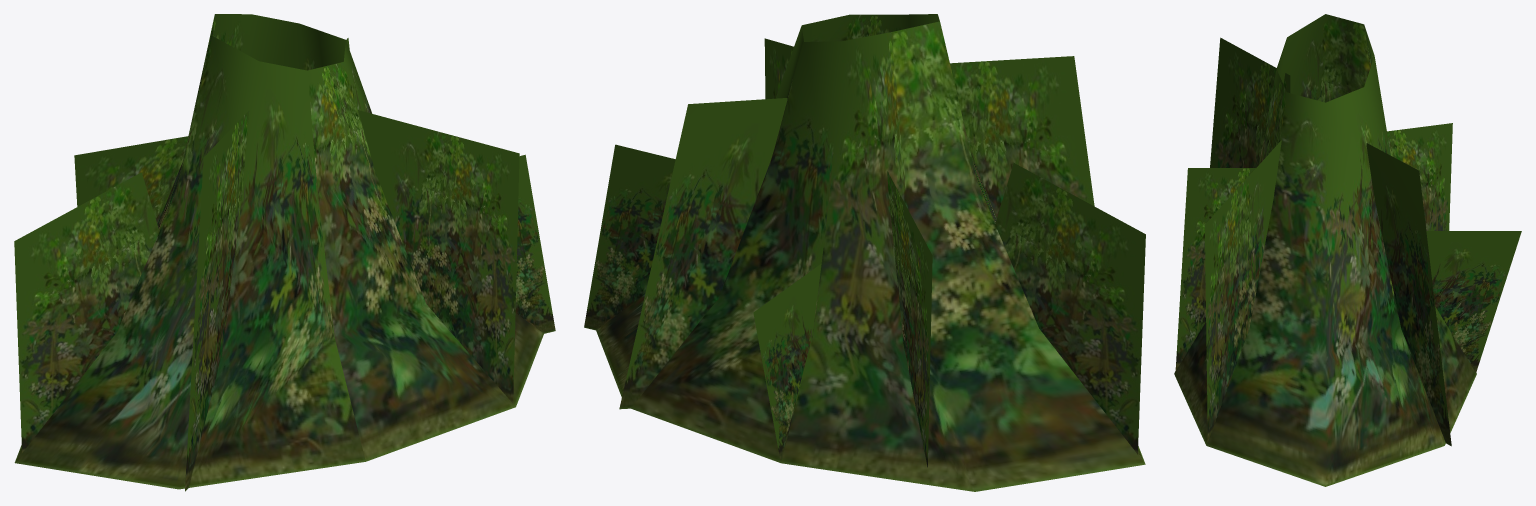
Rendered from bush_i.fbx.
3 views of the same model, side by side, from view 1: azimuth 30°, elevation 25°; view 2: azimuth 150°, elevation 25°; view 3: azimuth 270°, elevation 25° (orthographic). The views are drawn at different scales.
Visible parts, largest first — view 1: pCylinder1, pPlane21, pPlane17, pPlane9, pPlane27, pPlane18; view 2: pCylinder1, pPlane17, pPlane22, pPlane9, pPlane18, pPlane26, pPlane27, pPlane21; view 3: pCylinder1, pPlane21, pPlane22, pPlane26, pPlane9, pPlane24, pPlane27.
Boxes of the visible parts, x1=… form: pCylinder1: x1=14, y1=14, x2=543, y2=489; pPlane21: x1=358, y1=110, x2=519, y2=403; pPlane17: x1=14, y1=172, x2=159, y2=452; pPlane9: x1=185, y1=110, x2=249, y2=491; pPlane27: x1=74, y1=136, x2=188, y2=223; pPlane18: x1=515, y1=154, x2=555, y2=333; pCylinder1: x1=596, y1=14, x2=1145, y2=491; pPlane17: x1=995, y1=163, x2=1145, y2=454; pPlane22: x1=619, y1=98, x2=787, y2=409; pPlane9: x1=950, y1=56, x2=1094, y2=217; pPlane18: x1=584, y1=144, x2=675, y2=330; pPlane26: x1=753, y1=264, x2=821, y2=460; pPlane27: x1=887, y1=171, x2=932, y2=467; pPlane21: x1=764, y1=38, x2=793, y2=99; pCylinder1: x1=1174, y1=14, x2=1476, y2=486; pPlane21: x1=1204, y1=97, x2=1320, y2=441; pPlane22: x1=1366, y1=143, x2=1451, y2=446; pPlane26: x1=1426, y1=231, x2=1521, y2=372; pPlane9: x1=1210, y1=37, x2=1290, y2=167; pPlane24: x1=1175, y1=168, x2=1255, y2=370; pPlane27: x1=1387, y1=123, x2=1452, y2=230.
Bounding box in the file's own units: 3481 × 2327 × 2212.
Materials: 1 (1 with a texture image).
